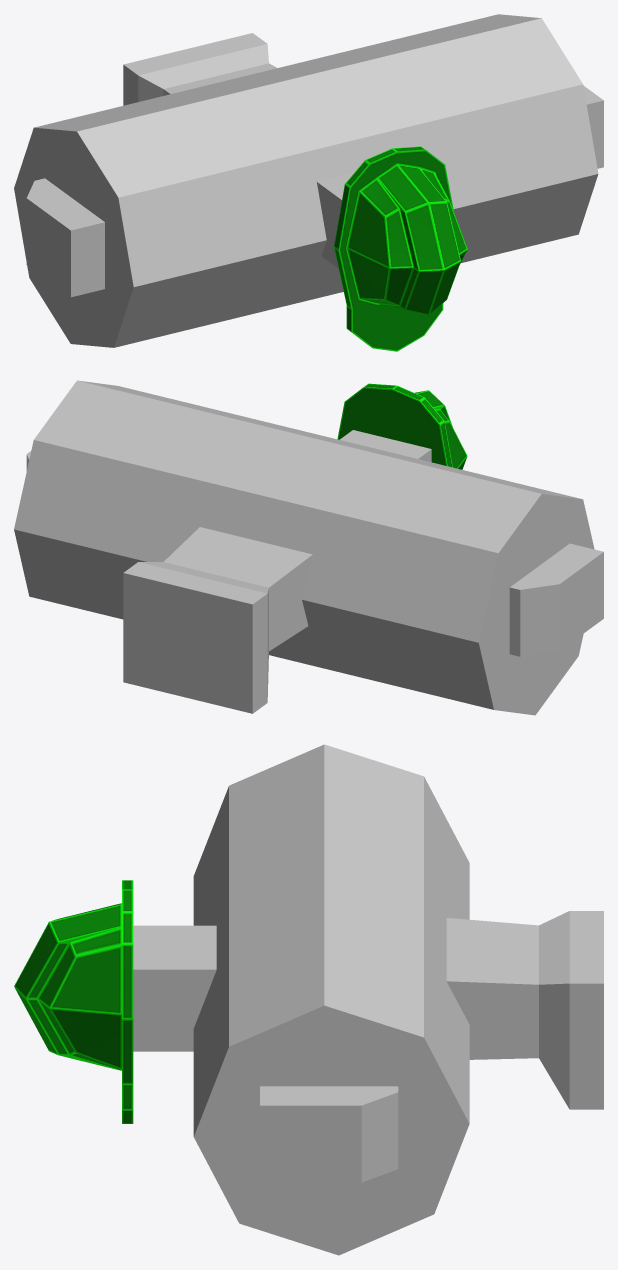
Rendered from Toob.obj.
The picture shows the model from 3 angles, top to bottom: view 1: azimuth 30°, elevation 25°; view 2: azimuth 150°, elevation 25°; view 3: azimuth 270°, elevation 25°; orthographic projection. The views are drawn at different scales.
Visible parts, largest first — view 1: ipyagpifb31; view 2: ipyagpifb31; view 3: ipyagpifb31.
Part boxes in pixels (<box>): ipyagpifb31: <box>14,14,603,351</box>; ipyagpifb31: <box>14,380,603,715</box>; ipyagpifb31: <box>14,744,603,1255</box>.
Bounding box in the file's own units: 6.67 × 2.6 × 5.55.
